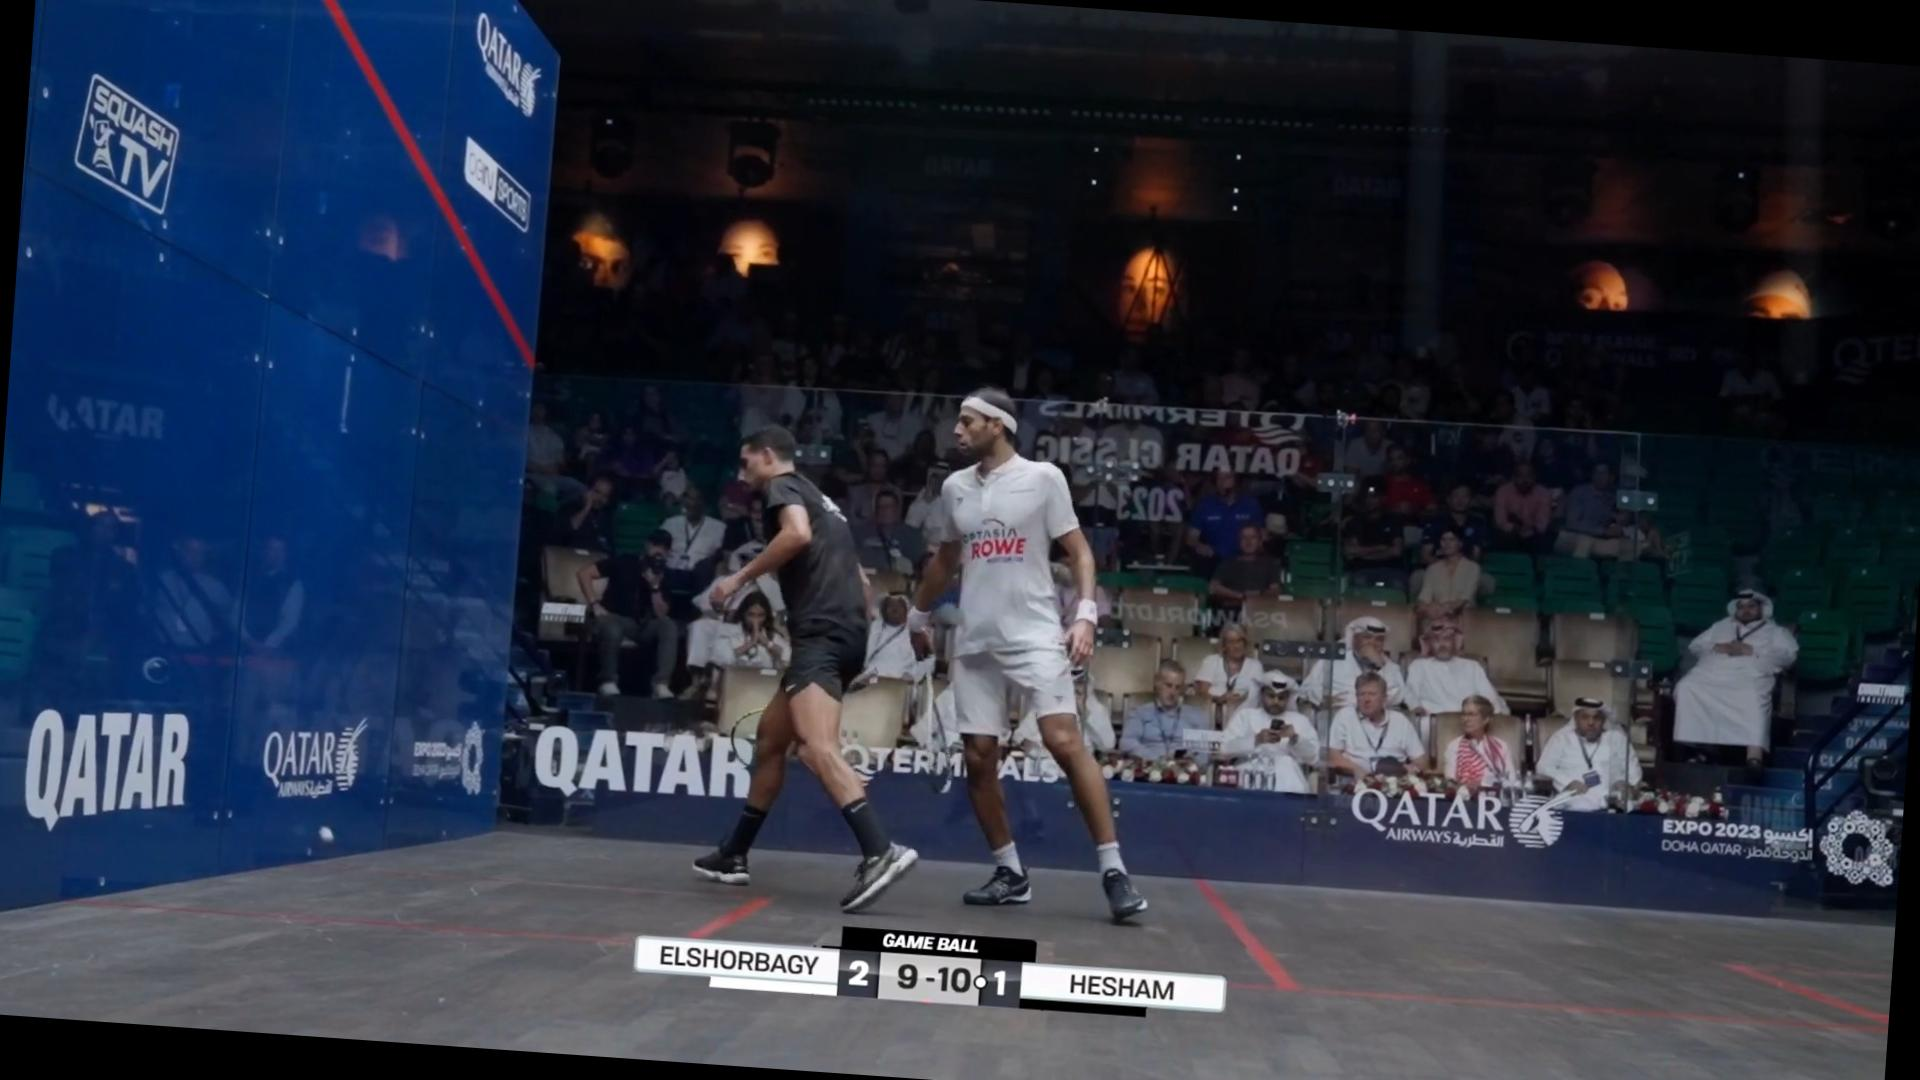Squash-Ball: (305, 812, 348, 858)
